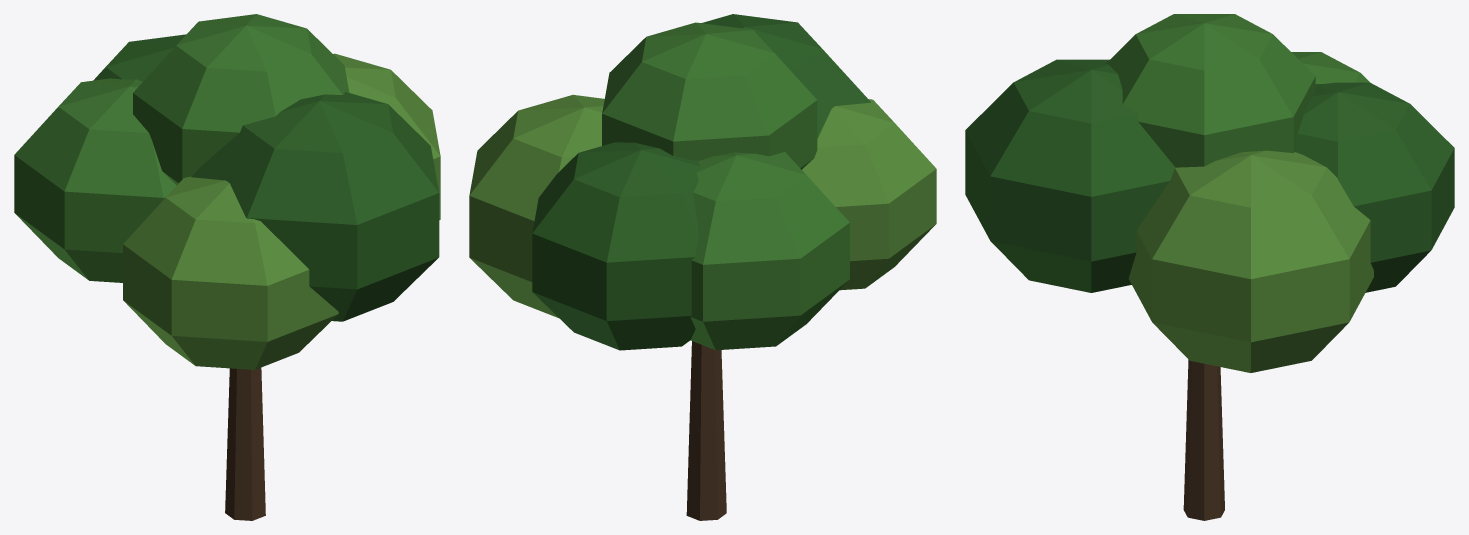
Rendered from oak-low-poly-b.glb.
3 renders of one model, left to right at view 1: azimuth 30°, elevation 25°; view 2: azimuth 150°, elevation 25°; view 3: azimuth 270°, elevation 25°, orthographic. The views are drawn at different scales.
Visible parts, largest first — view 1: oak-b; view 2: oak-b; view 3: oak-b.
Part boxes in pixels (bbox=[...]): oak-b: bbox=[14, 14, 440, 520]; oak-b: bbox=[469, 14, 936, 520]; oak-b: bbox=[965, 14, 1454, 520].
Bounding box in the file's own units: 7.34 × 9.14 × 8.29.
